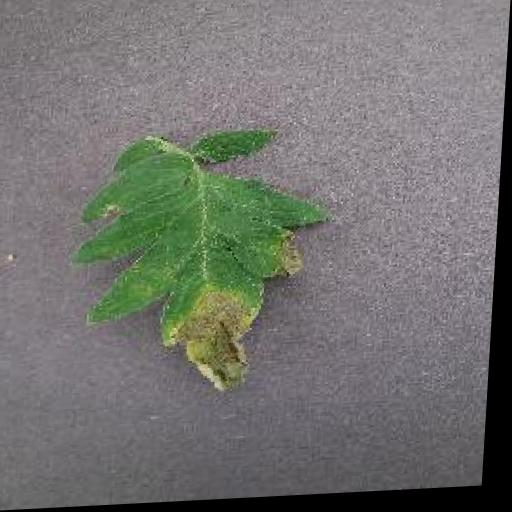Late Blight: (71, 128, 335, 400)
